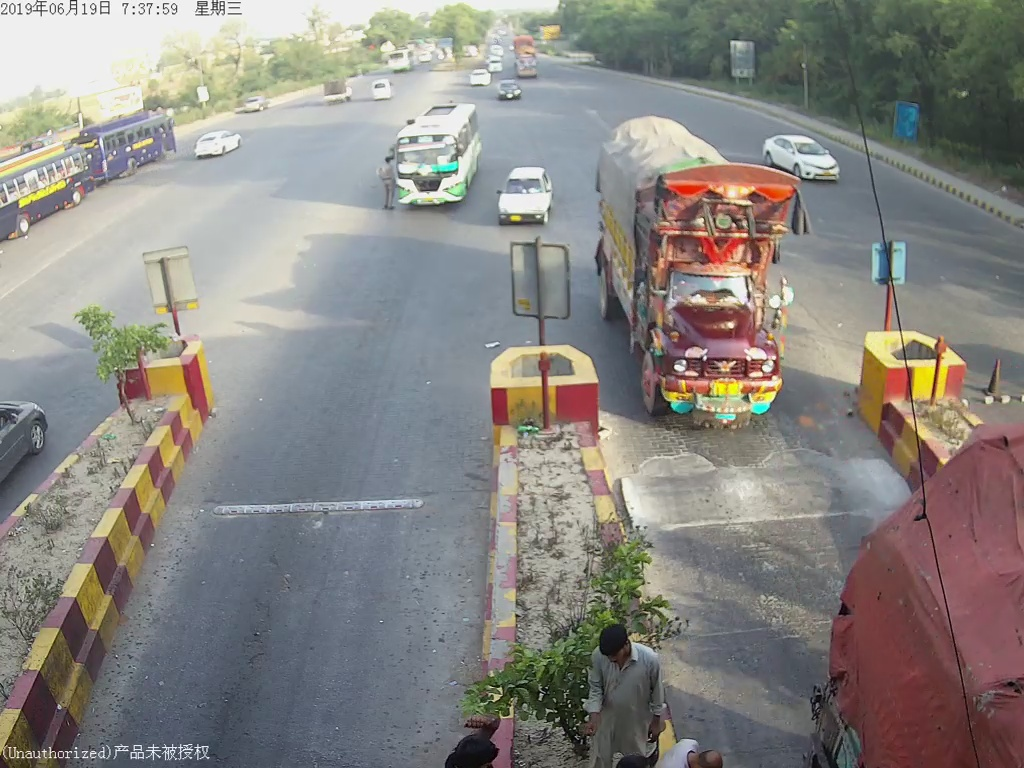Cat-1: (491, 155, 558, 229), (765, 125, 845, 186)
Cat-3: (393, 103, 482, 209)
Cat-4: (596, 118, 791, 424)
